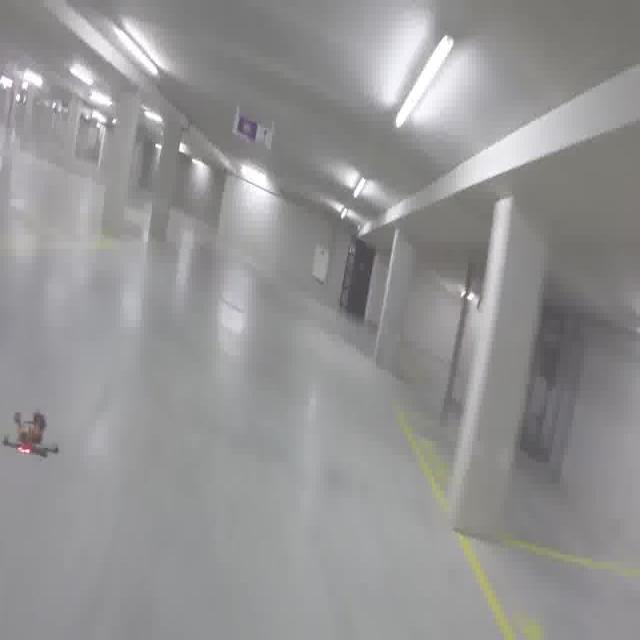drone: (3, 408, 61, 464)
